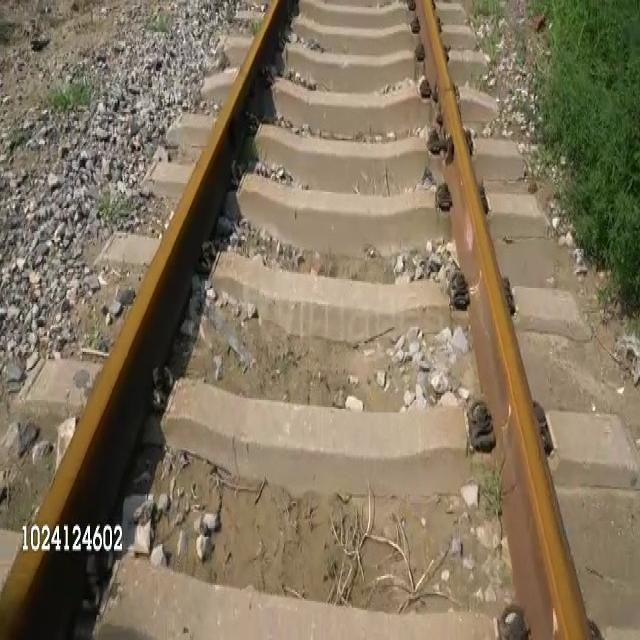Plant: (512, 0, 639, 323), (479, 464, 506, 515), (45, 84, 90, 109), (479, 25, 501, 61), (471, 0, 503, 17)
